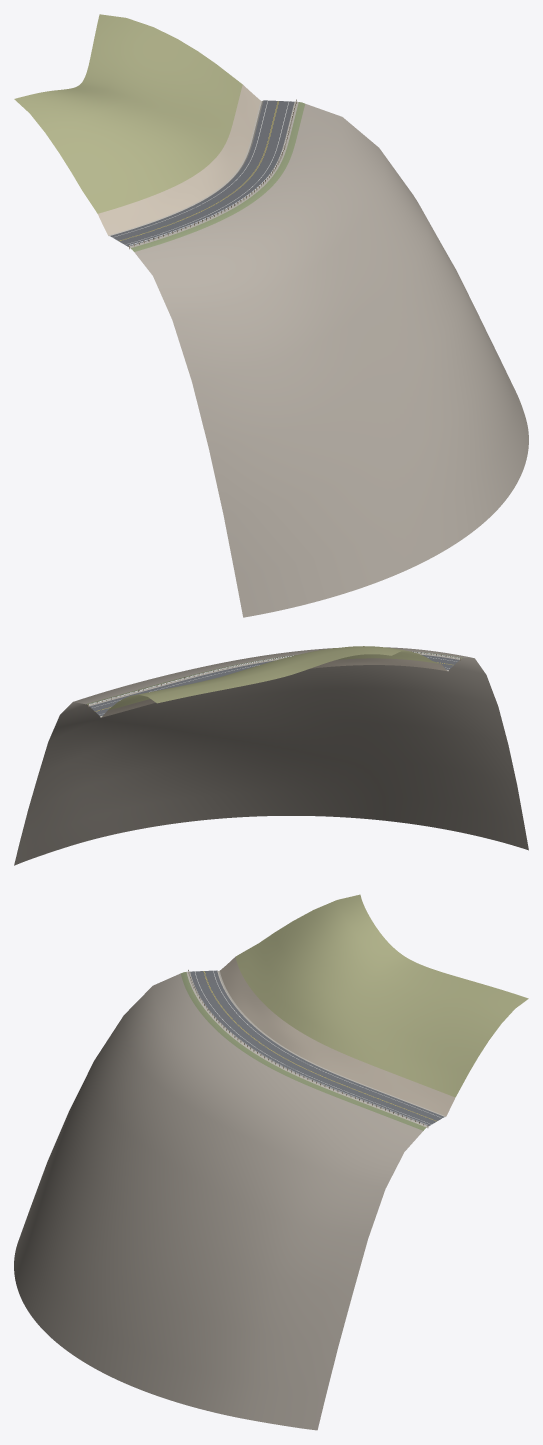
3 renders of one model, top to bottom at view 1: azimuth 30°, elevation 25°; view 2: azimuth 150°, elevation 25°; view 3: azimuth 270°, elevation 25°, orthographic. The views are drawn at different scales.
Parts seen in each view (by area): view 1: Cliff, Hillside, Asphalt, RoadCut, Verge, Gravel; view 2: Cliff, Hillside, Asphalt, RoadCut, Gravel, Guardrail, Verge; view 3: Cliff, Hillside, RoadCut, Asphalt, Verge, Gravel.
Part boxes in pixels (left/top/right/bottom): Cliff: left=134, top=104, right=528, bottom=617; Hillside: left=14, top=14, right=242, bottom=213; Asphalt: left=110, top=100, right=294, bottom=246; RoadCut: left=98, top=84, right=260, bottom=235; Verge: left=131, top=102, right=305, bottom=251; Gravel: left=108, top=100, right=298, bottom=248; Cliff: left=14, top=647, right=528, bottom=865; Hillside: left=108, top=646, right=439, bottom=710; Asphalt: left=89, top=654, right=459, bottom=716; RoadCut: left=101, top=658, right=447, bottom=717; Gravel: left=88, top=653, right=460, bottom=717; Guardrail: left=89, top=651, right=459, bottom=704; Verge: left=86, top=651, right=462, bottom=704; Cliff: left=14, top=973, right=422, bottom=1430; Hillside: left=235, top=894, right=528, bottom=1097; RoadCut: left=220, top=957, right=455, bottom=1116; Asphalt: left=190, top=970, right=444, bottom=1125; Verge: left=180, top=972, right=426, bottom=1130; Gravel: left=186, top=970, right=445, bottom=1127.
Size of the model in its own units: 182 by 141 by 197.
